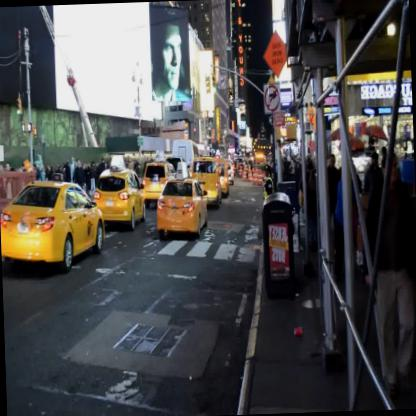car: (0, 180, 105, 278), (93, 169, 146, 232), (156, 178, 209, 240), (143, 161, 176, 209), (191, 156, 220, 206)
